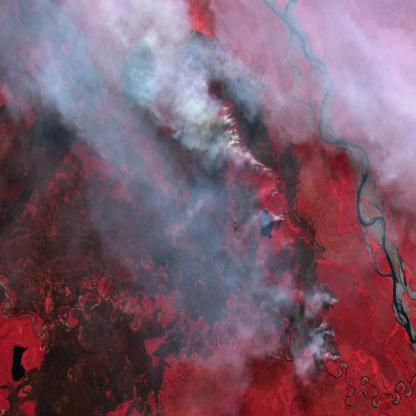fire: (213, 92, 277, 182), (308, 274, 343, 318), (319, 321, 346, 372), (274, 207, 291, 230)
